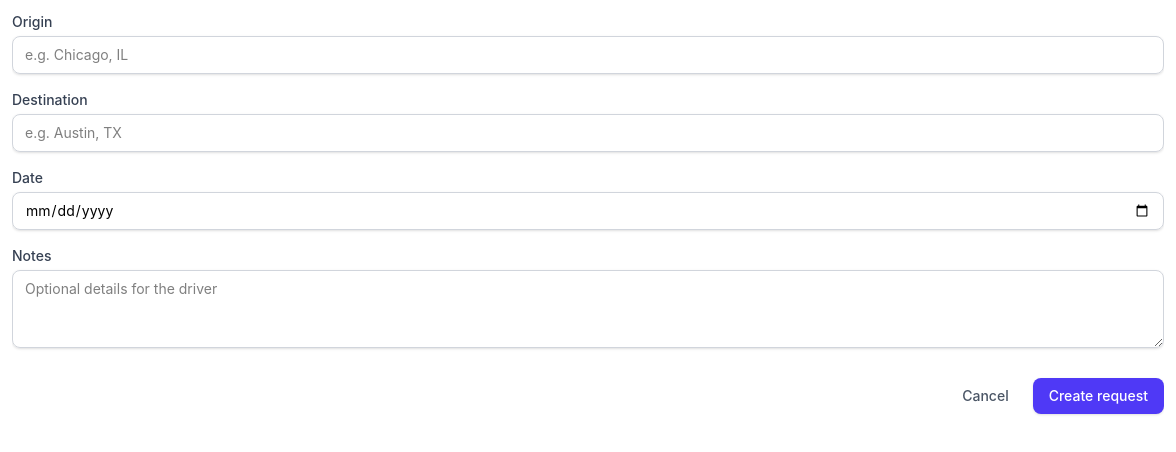
Test: RequestForm › rejects a past date
The image size is (1176, 452).
In the field with placeholder "e.g. Chicago, IL": (588, 55) [12,36,1164,74], type "Chicago, IL"
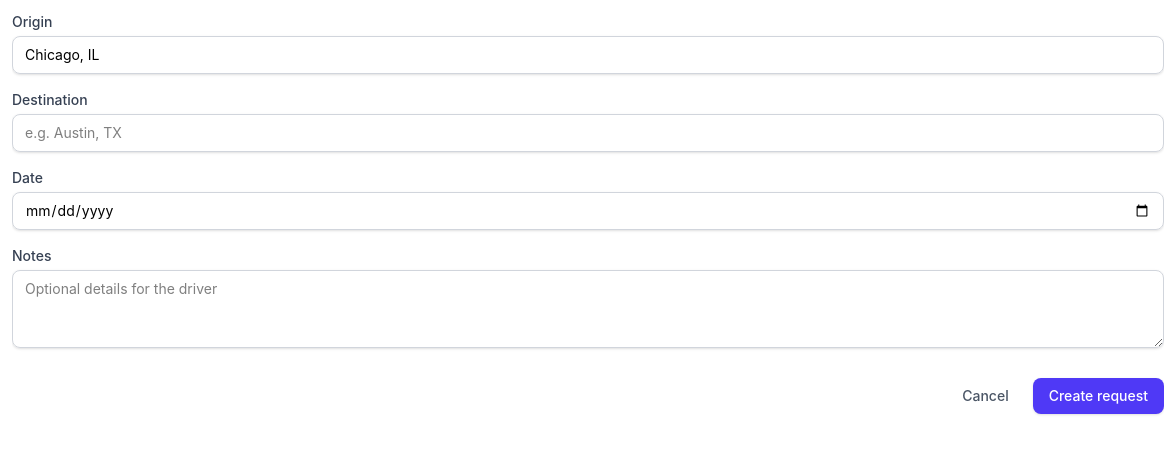
In the field with placeholder "e.g. Austin, TX": (588, 133) [12,114,1164,152], type "Austin, TX"
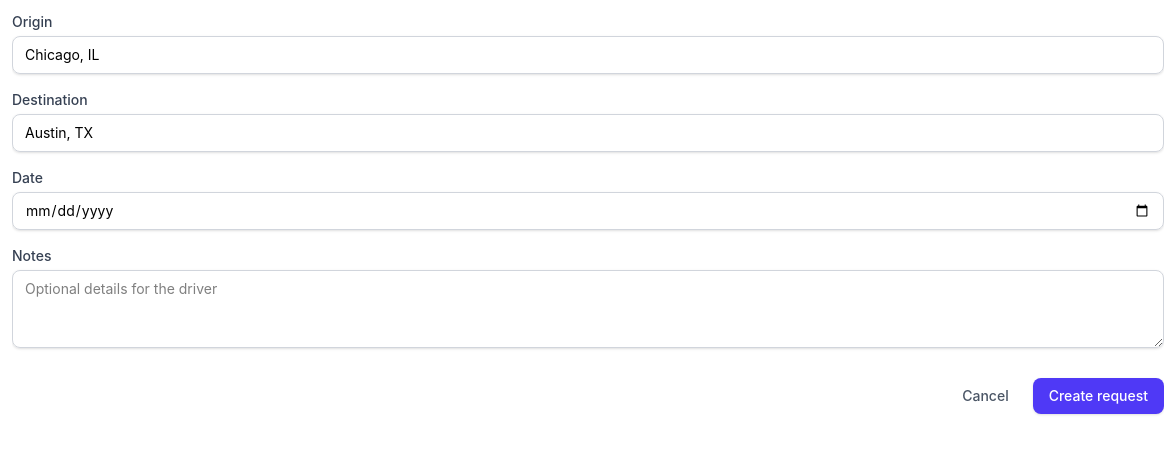
In the date field: (588, 211) [12,192,1164,230], type "2000-01-01"
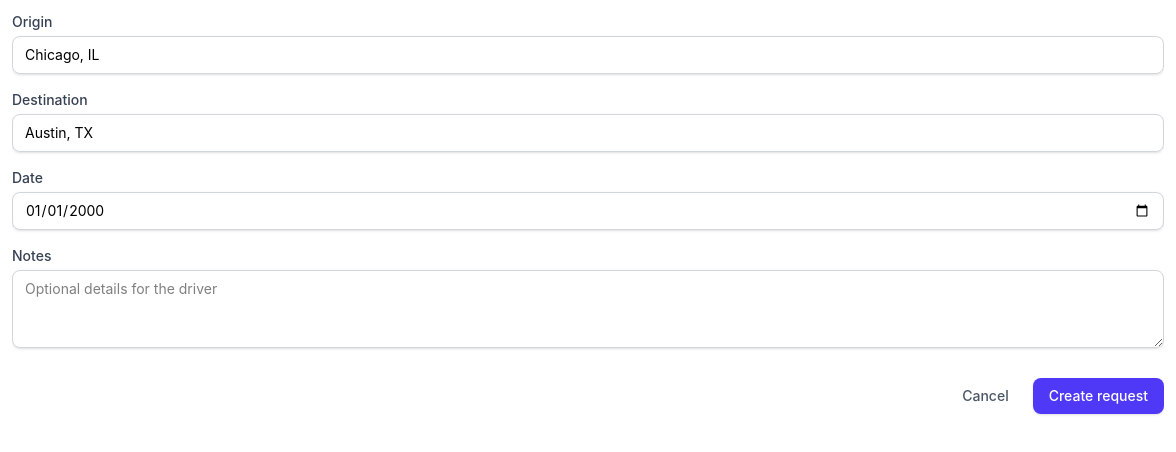
Submit the form
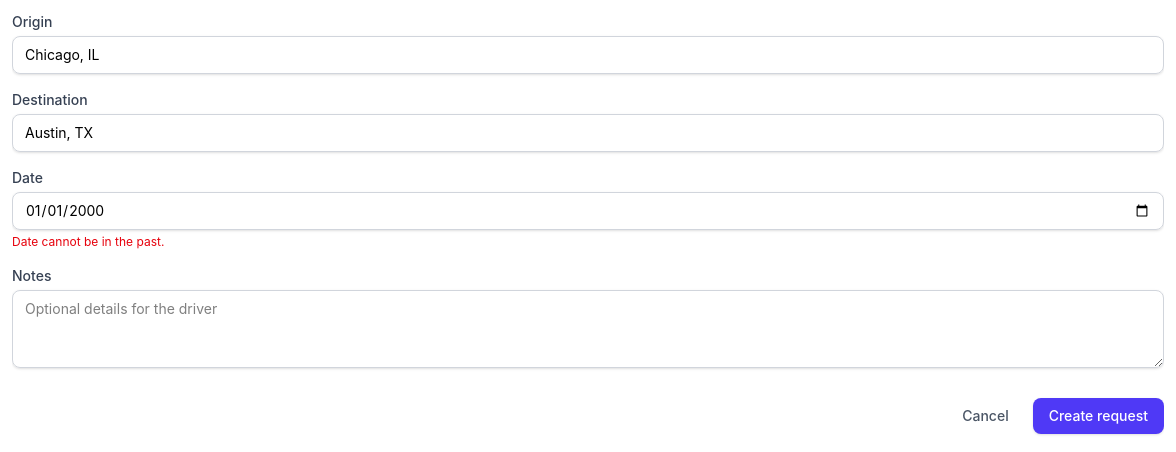
Result: the form shows "Date cannot be in the past." at [12,234,164,249]
